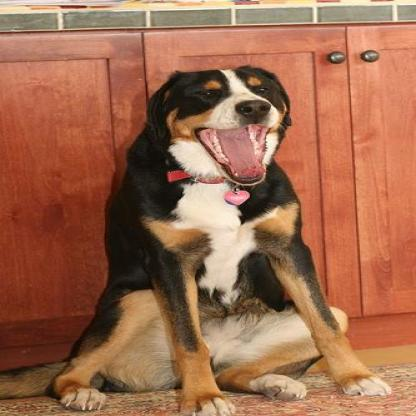Greater_Swiss_Mountain_dog: (0, 63, 394, 414)
